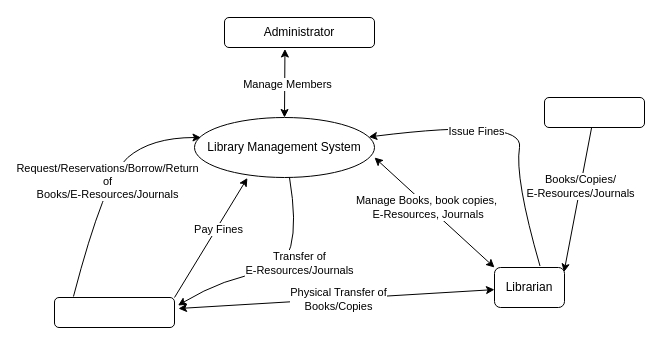
This 663x345 diagram has some shape labels left out. Here are the shapes that lost their labels. From the top down, the box of each, then its label:
(544, 96, 644, 128): Distributor/Seller
(54, 296, 174, 328): Student/Faculty
